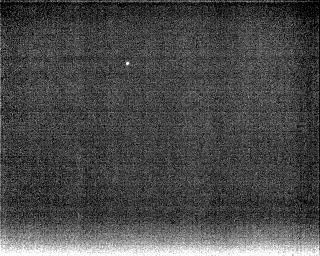BIRD: (123, 58, 132, 69)
